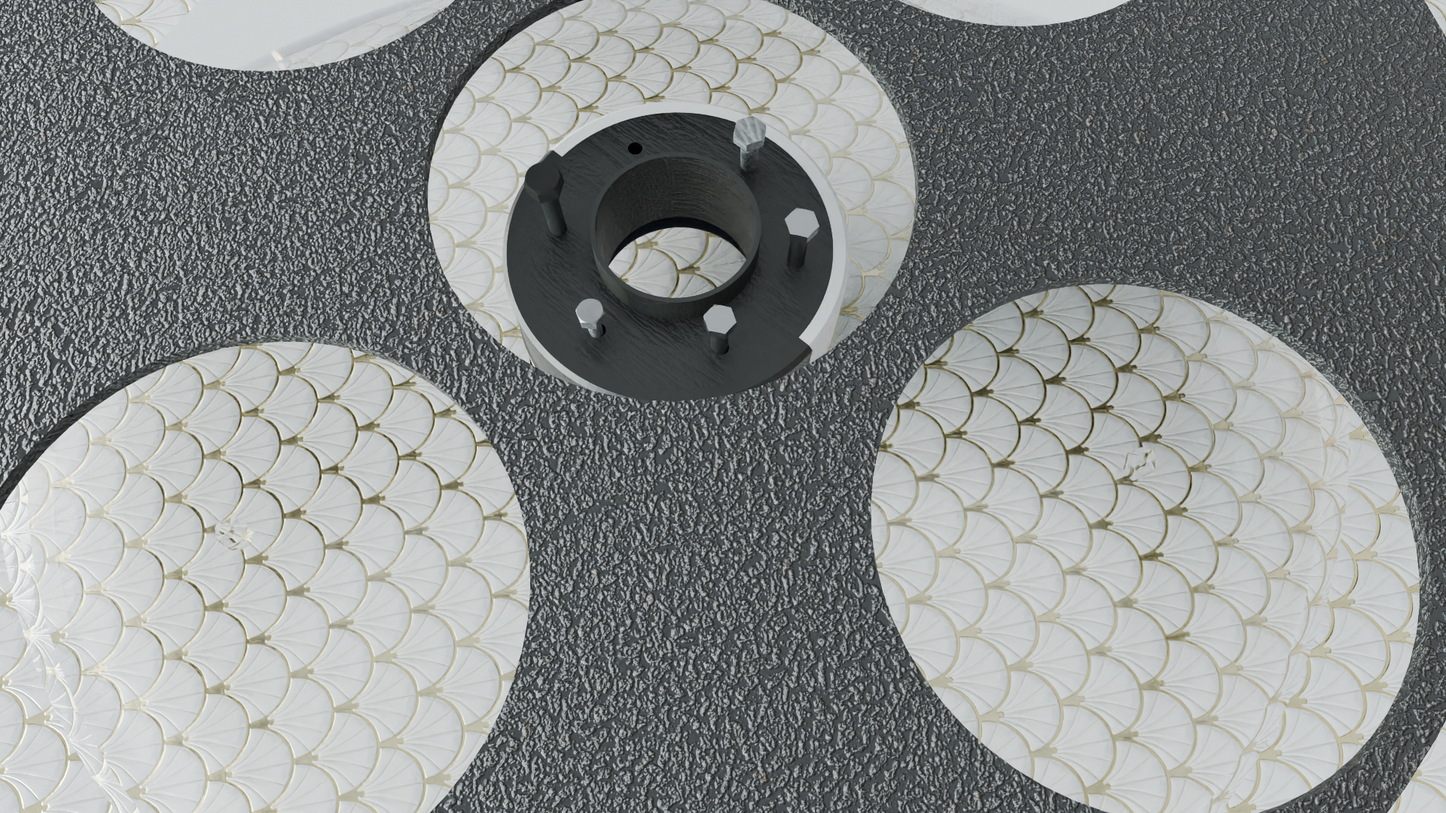bolt: (524, 162, 562, 196), (785, 208, 819, 238), (703, 304, 737, 334), (734, 116, 766, 145), (575, 299, 605, 324)
